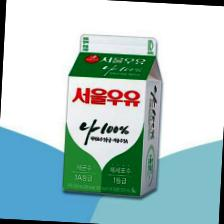milk: (62, 32, 165, 198)
